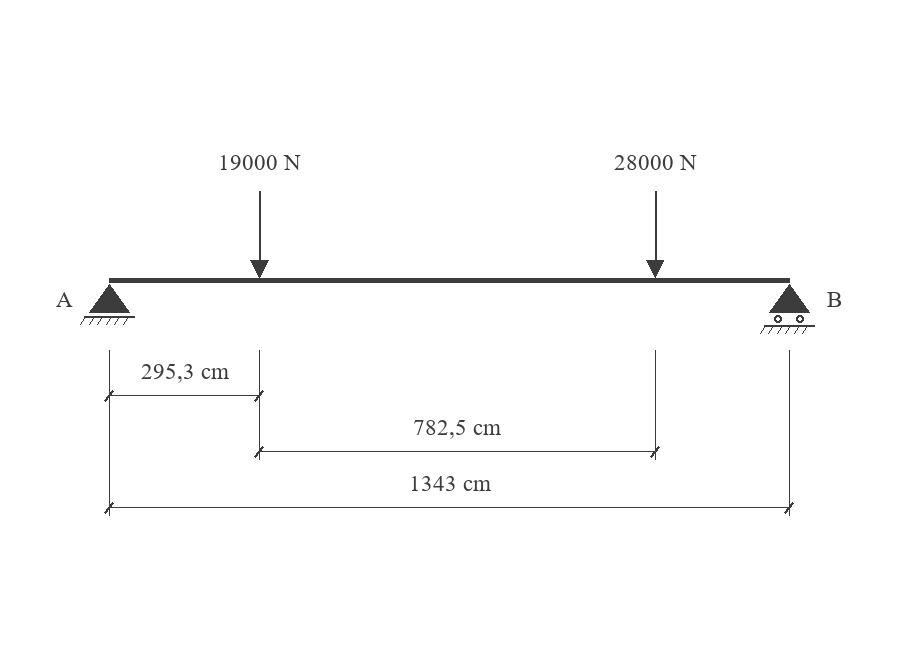pin_support: (80, 284, 135, 325)
point_load: (250, 191, 269, 278), (646, 191, 664, 278)
roller_support: (760, 284, 815, 334)
